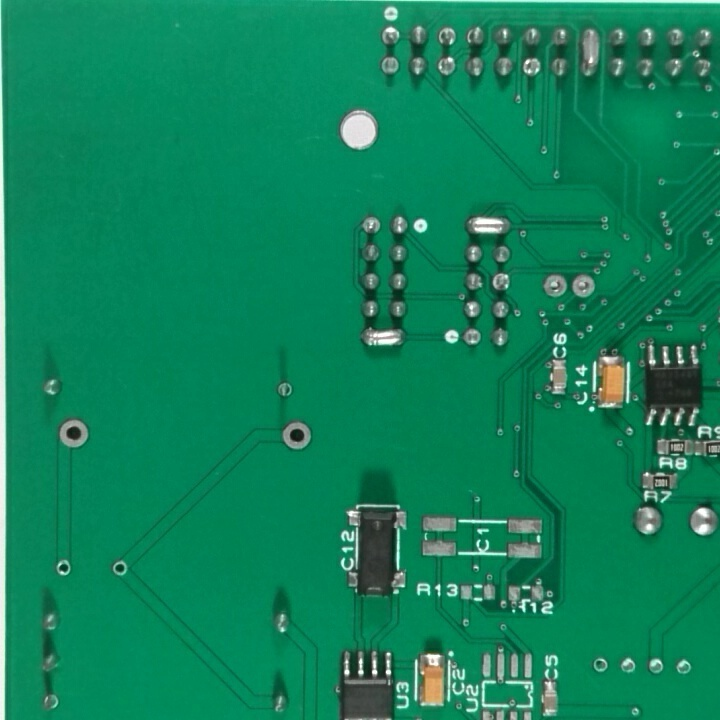F: (56, 414, 91, 451), (278, 417, 313, 453), (572, 271, 596, 301), (541, 272, 567, 299), (436, 25, 459, 50), (359, 212, 382, 237), (490, 270, 513, 295), (460, 328, 484, 351), (381, 23, 401, 50), (673, 655, 695, 678), (521, 55, 541, 80), (647, 654, 667, 679), (275, 379, 295, 403), (40, 690, 60, 713), (110, 558, 130, 580), (619, 655, 638, 677), (54, 557, 72, 580), (591, 655, 610, 675)
P: (578, 25, 604, 83), (357, 323, 409, 351), (462, 212, 515, 238)
